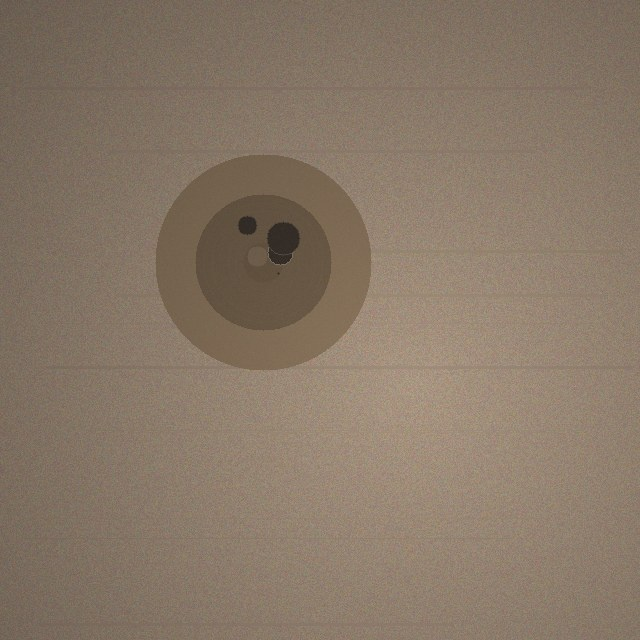shrinkage: (155, 154, 371, 370)
